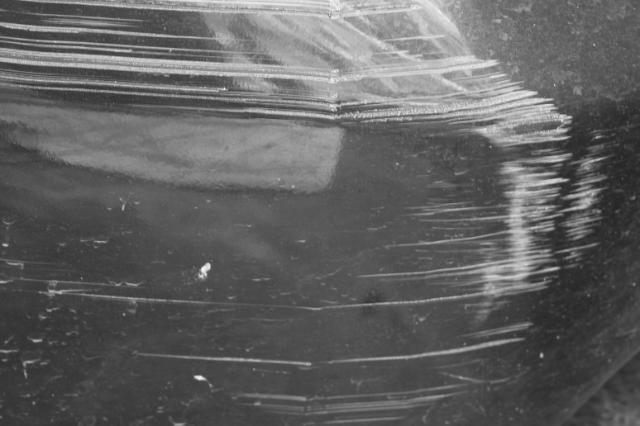Bumper: (0, 0, 605, 426)
